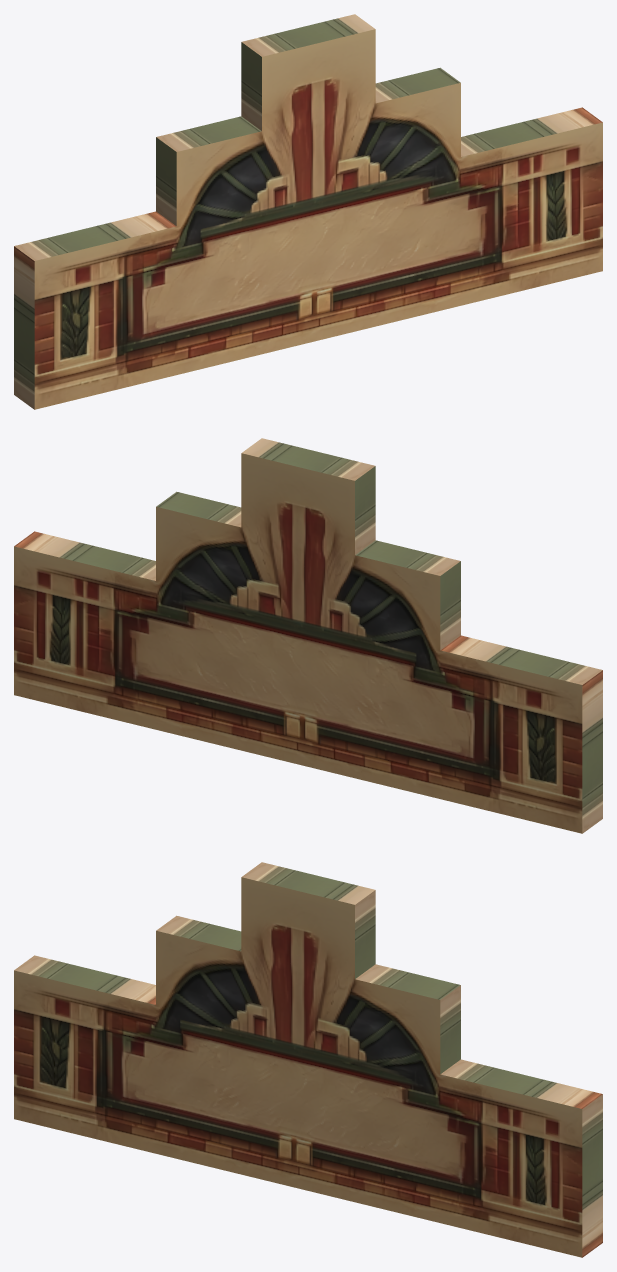
The model's file is BRK_CrestB.fbx.
The picture shows the model from 3 angles, top to bottom: view 1: azimuth 30°, elevation 25°; view 2: azimuth 150°, elevation 25°; view 3: azimuth 330°, elevation 25°; orthographic projection.
Parts seen in each view (by area): view 1: BRK_CrestB; view 2: BRK_CrestB; view 3: BRK_CrestB.
Boxes of the visible parts, box(x1,y1,x2,y2) form: BRK_CrestB: box(14, 14, 602, 409); BRK_CrestB: box(14, 438, 602, 833); BRK_CrestB: box(14, 862, 602, 1257).
Bounding box in the file's own units: 4 × 0.25 × 2.
1 material, 1 textured.
